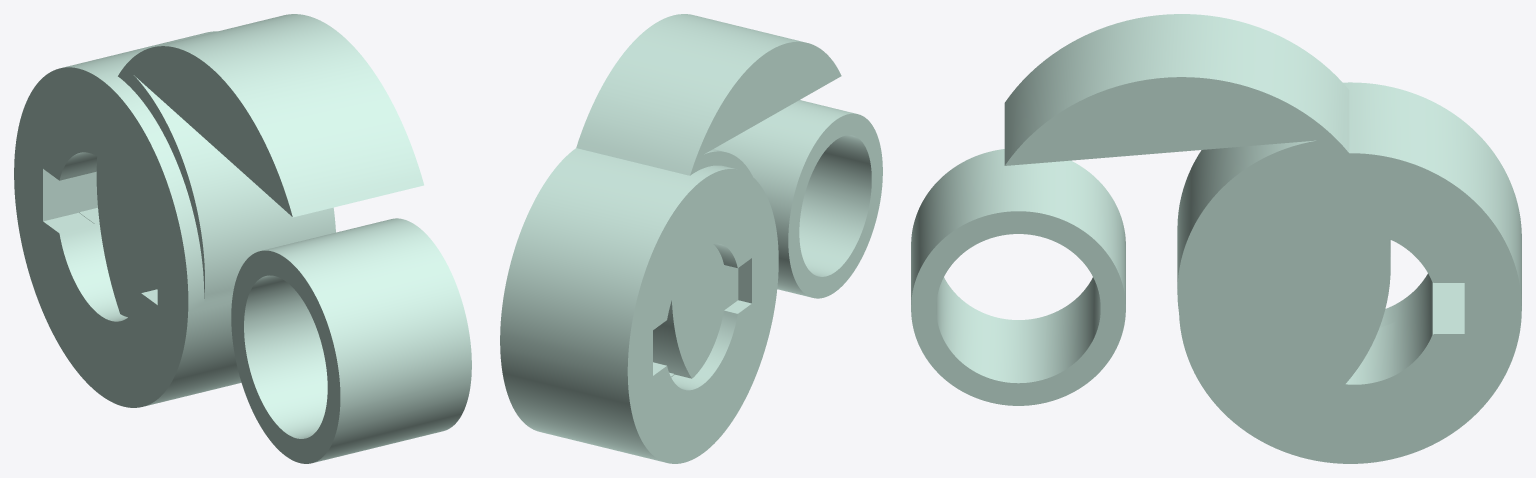
3 renders of one model, left to right at view 1: azimuth 30°, elevation 25°; view 2: azimuth 150°, elevation 25°; view 3: azimuth 270°, elevation 25°, orthographic. The views are drawn at different scales.
Visible parts, largest first — view 1: Renderer Node; view 2: Renderer Node; view 3: Renderer Node.
Boxes of the visible parts, box(x1,y1,x2,y2) form: Renderer Node: box(14, 14, 471, 463); Renderer Node: box(500, 14, 882, 463); Renderer Node: box(911, 14, 1521, 463).
Size of the model in its own units: 0.2891 by 0.7371 by 1.05.
